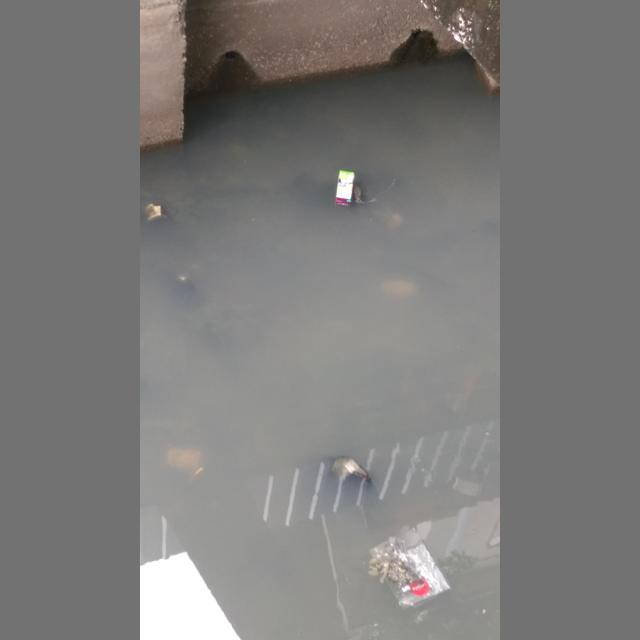litter: (369, 529, 452, 610), (335, 170, 355, 206)
